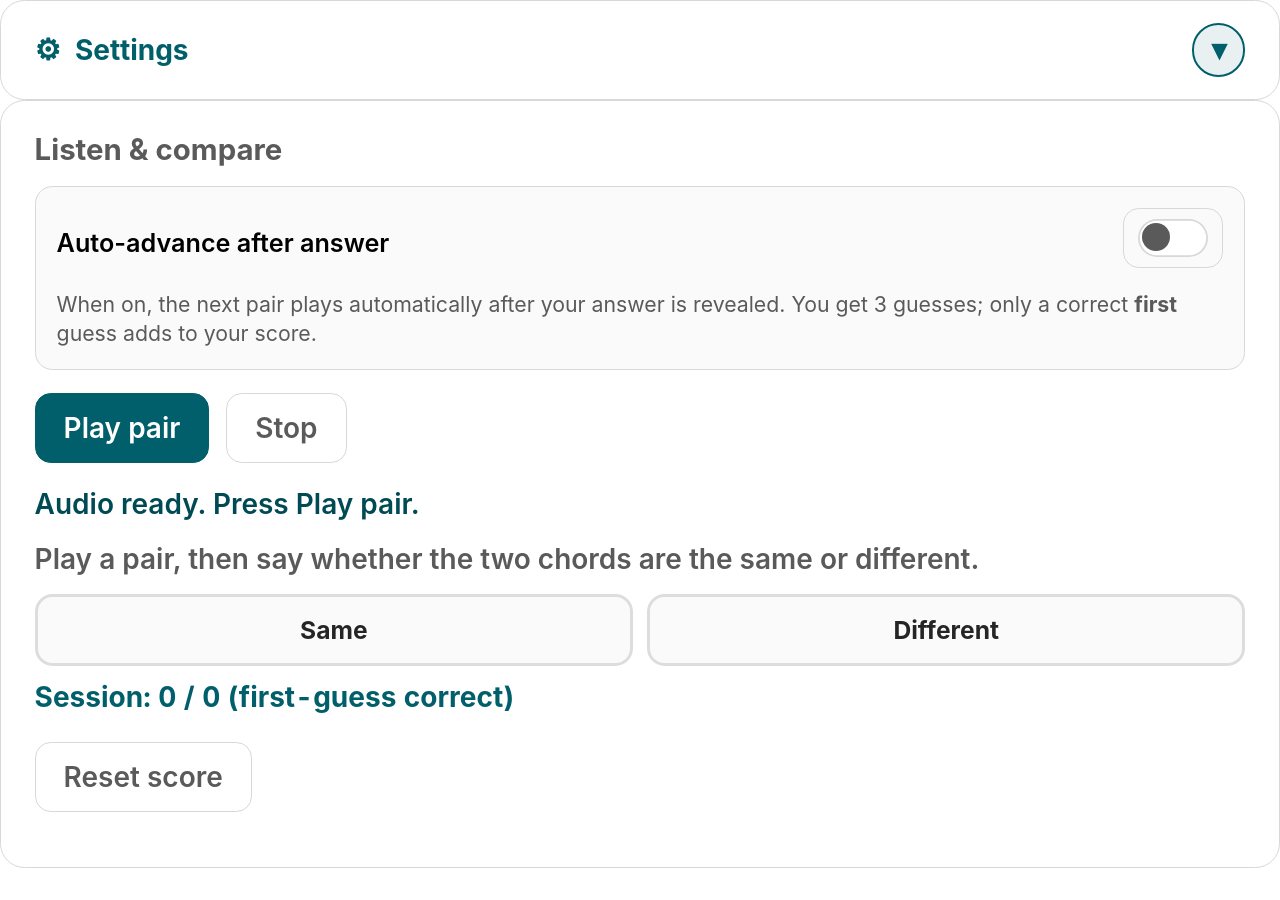
Test case: ChordComparisonTopic — first-guess scoring (docs/05-topics/09 §7) › counts a wrong-then-right answer as total+1, correct+0 (only first guess scores)
Step 1. Click the button "Play pair" → (122, 428), box [35,393,209,463]
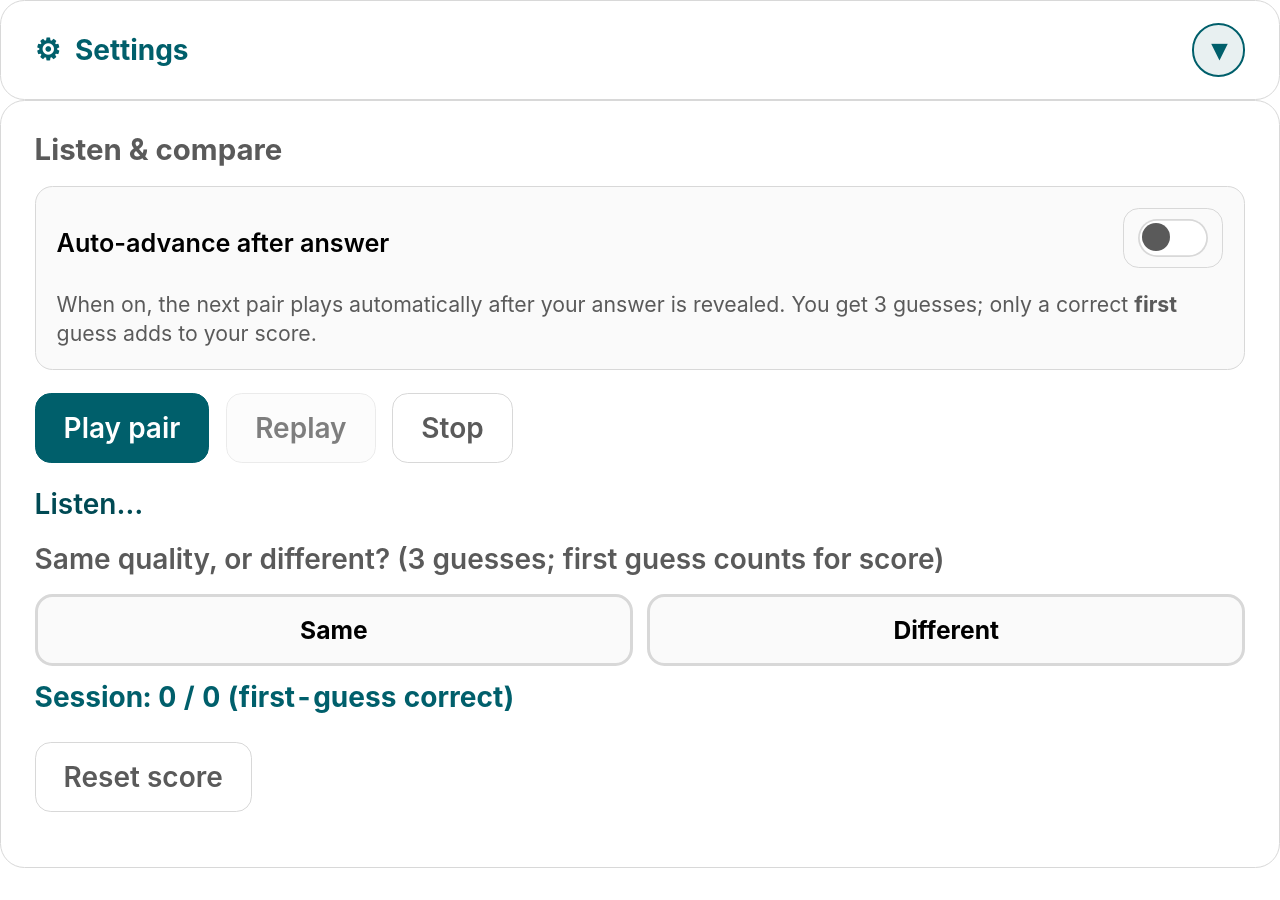
Step 2. Click the button "Different" → (946, 630), box [647,594,1245,666]
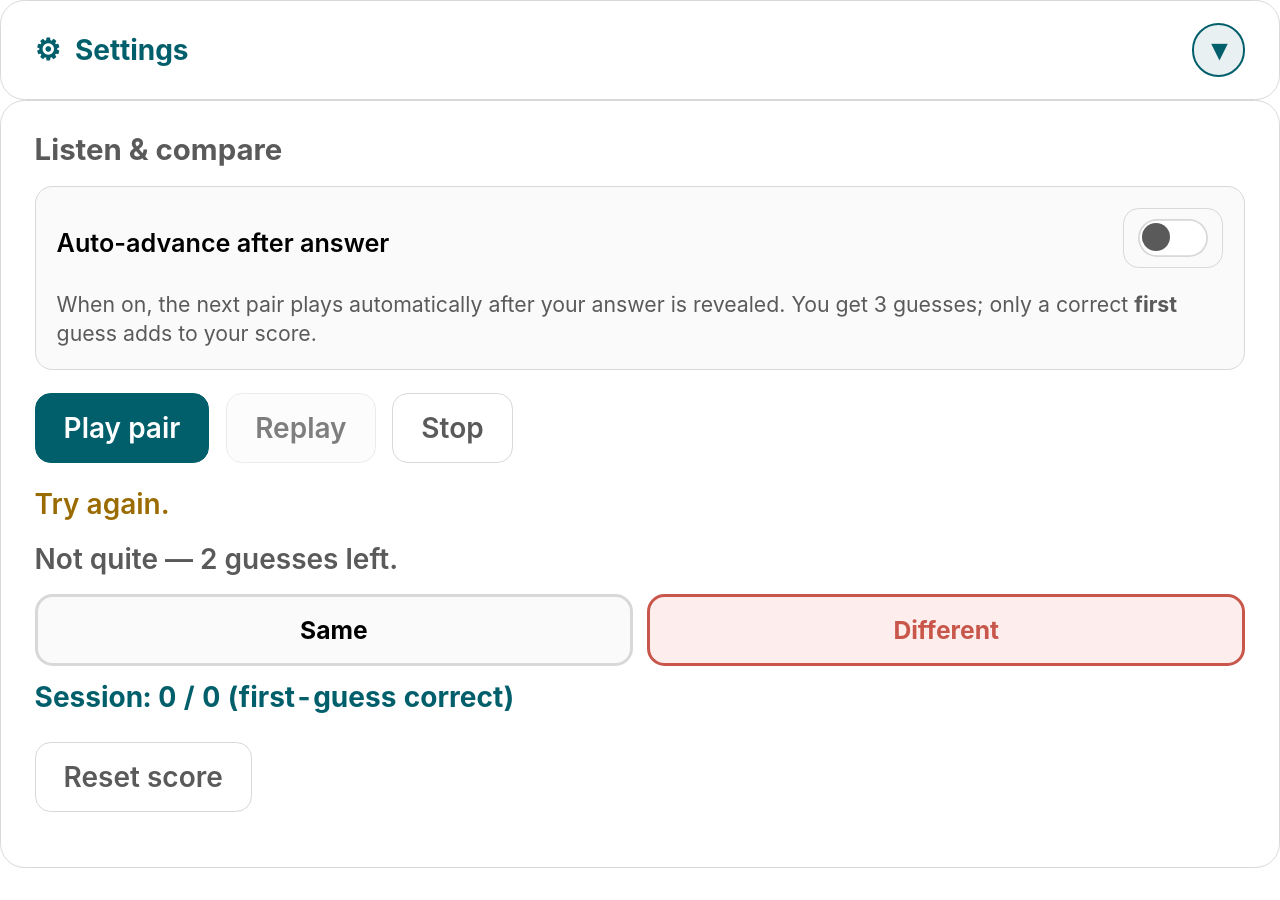
Step 3. Click the button "Same" → (334, 630), box [35,594,633,666]
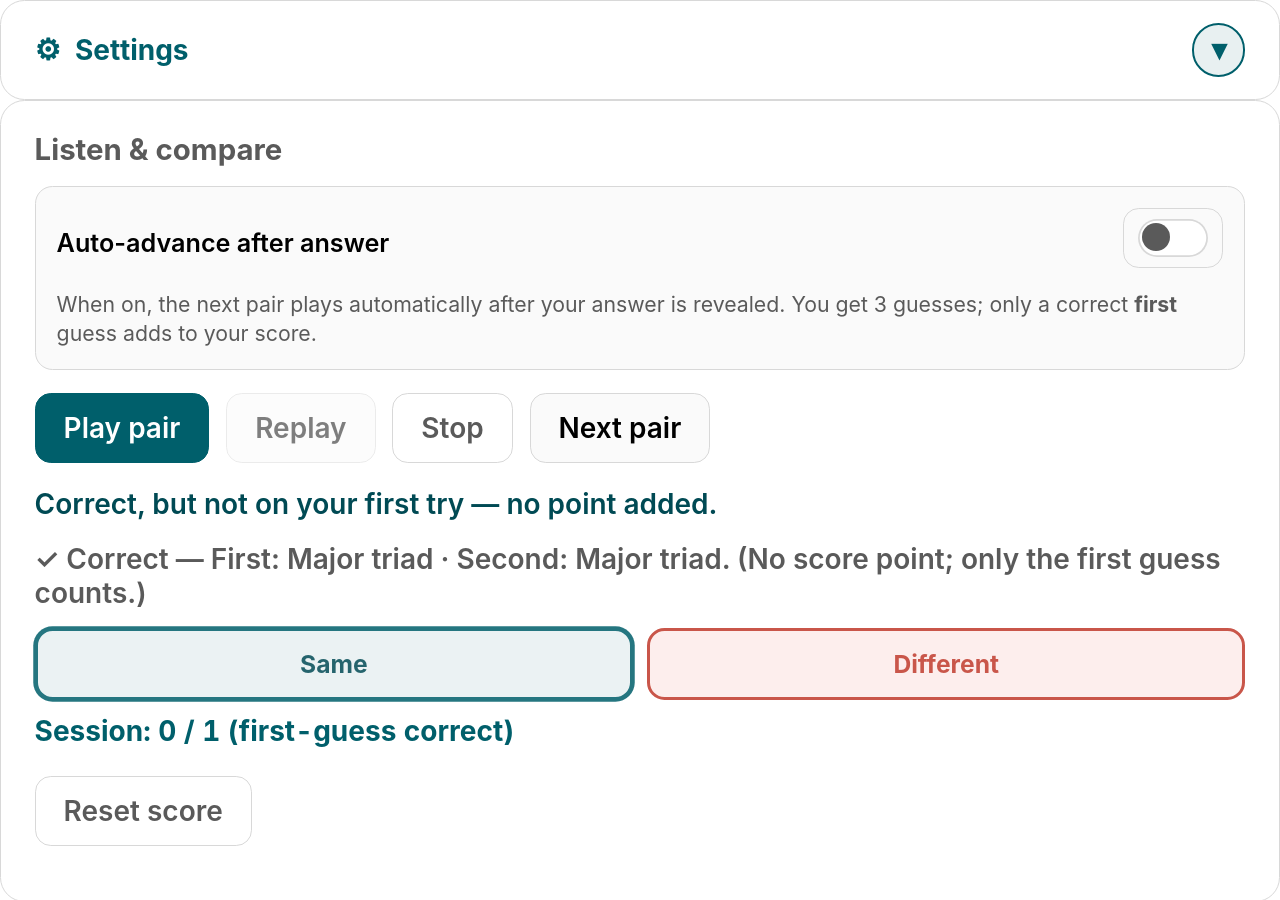
Check: the text "Session: 0 / 1 (first-guess correct)" is shown, box [35,714,514,748]
